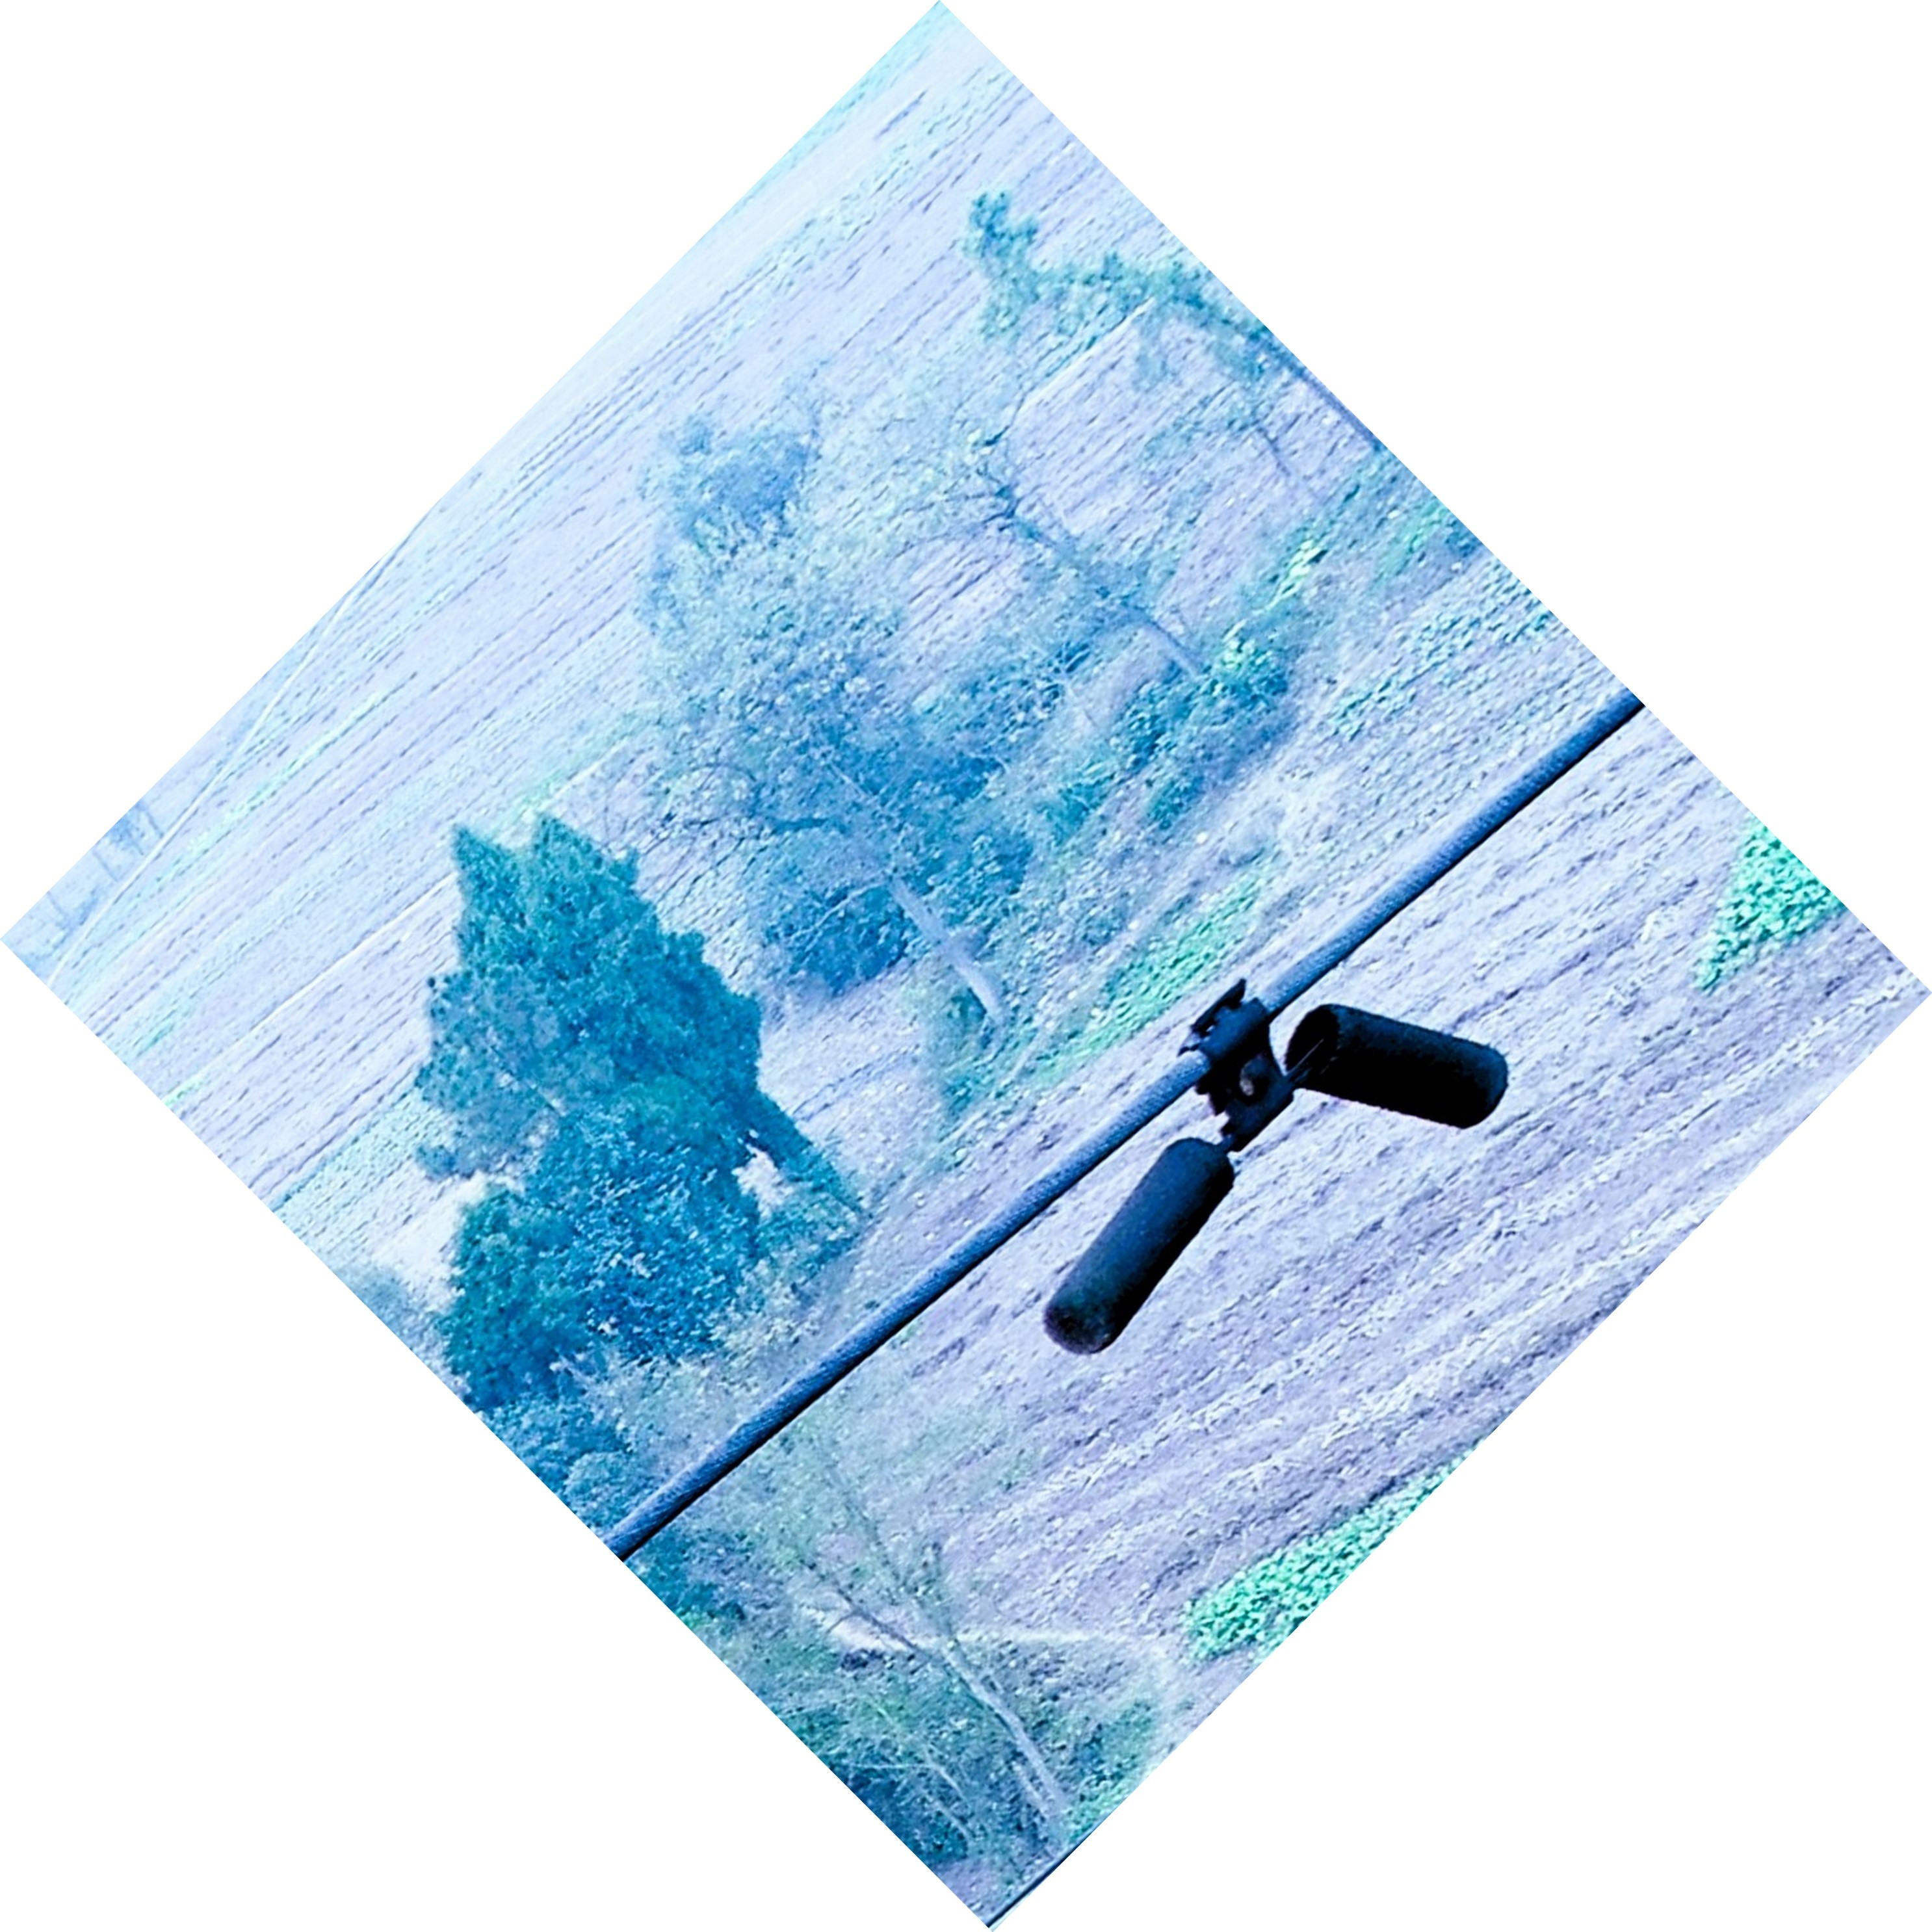Damage of shockproof hammer: (994, 913, 1536, 1373)
